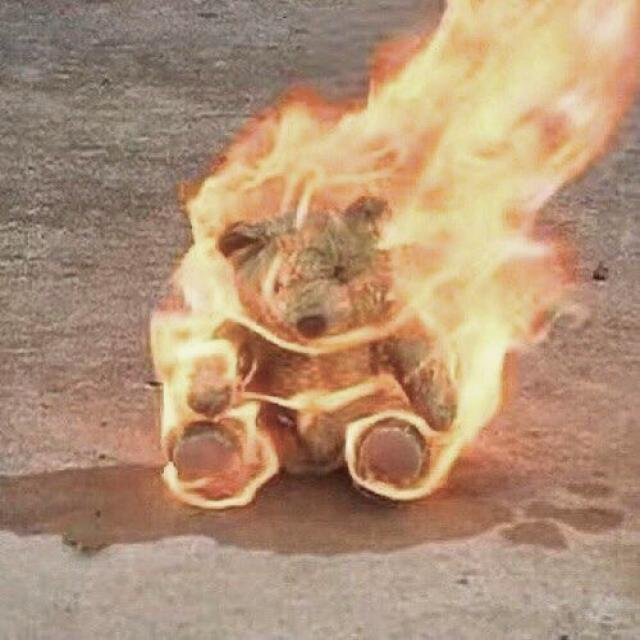fire: (147, 0, 640, 509)
